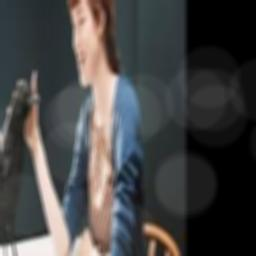Crow: (0, 83, 40, 256)
